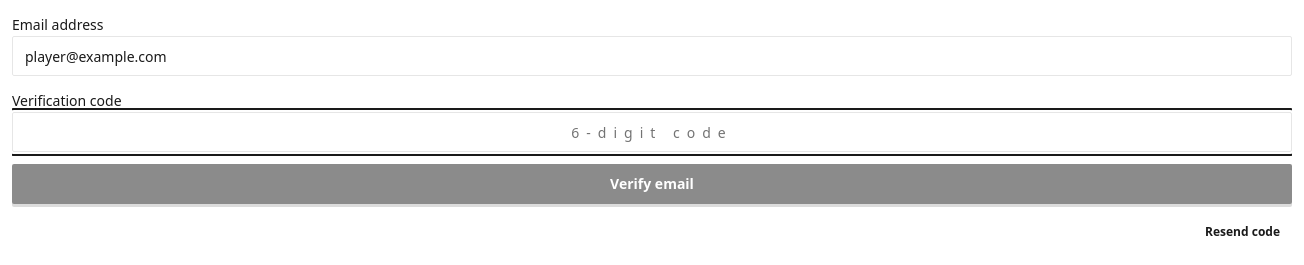
Test: VerificationEmailForm › requests a new code and shows a generic success message
Click the button "Resend code" at [1242, 232], box [1193,216,1292,248]
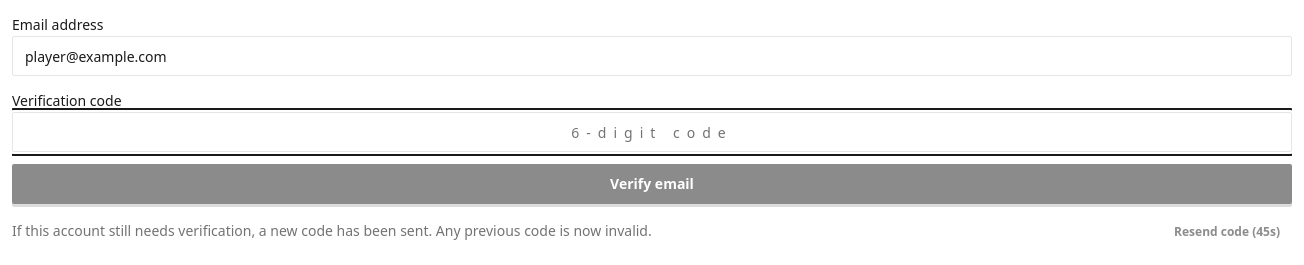
Expected: the text "If this account still needs verification, a new code has been sent. Any previous code is now invalid." is shown, [12,221,652,240]
Expected: the button "Resend code (45s)" is disabled, [1162,216,1292,248]
